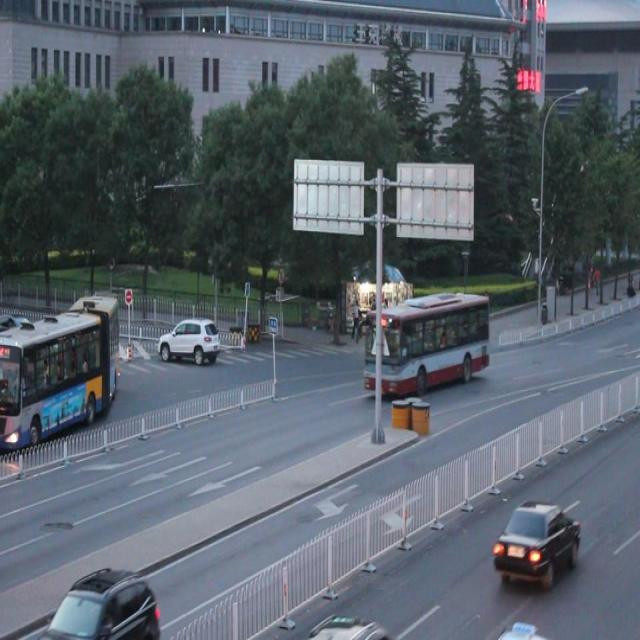car: (488, 488, 578, 592), (41, 569, 162, 640), (159, 314, 220, 372), (304, 608, 389, 640)
van: (1, 293, 120, 449), (365, 289, 489, 397)
